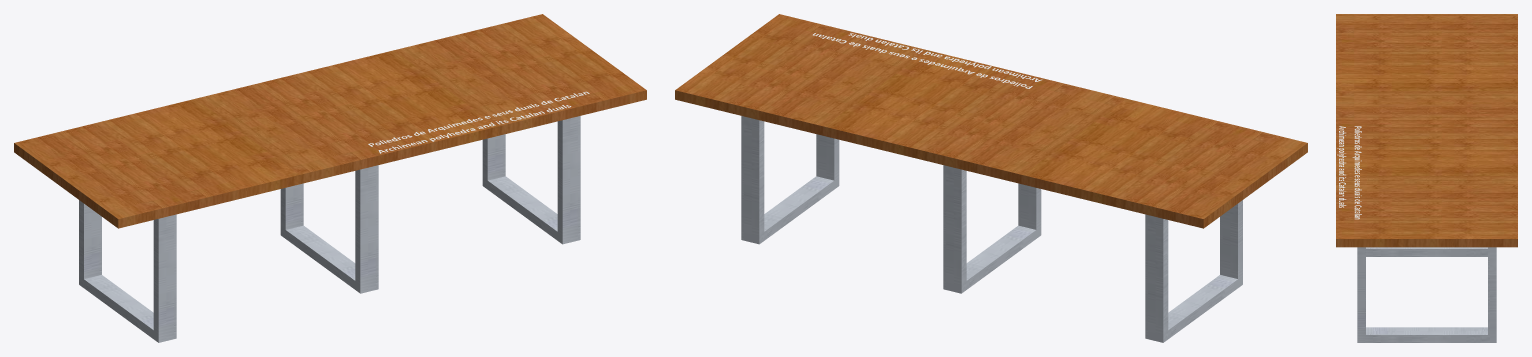
The model's file is mesa_Arquimedes3.glb.
3 views of the same model, side by side, from view 1: azimuth 30°, elevation 25°; view 2: azimuth 150°, elevation 25°; view 3: azimuth 270°, elevation 25° (orthographic). The views are drawn at different scales.
Parts seen in each view (by area): view 1: object 1, Composant#1 (×3), Poliedros de Arq; view 2: object 1, Composant#1 (×3), Poliedros de Arq; view 3: object 1, Composant#1 (×2), Poliedros de Arq.
Part boxes in pixels (x1,y1,x2,y2): object 1: [14, 14, 646, 228]; Composant#1 (×3): [79, 116, 580, 342]; Poliedros de Arq: [368, 91, 589, 153]; object 1: [675, 14, 1307, 228]; Composant#1 (×3): [741, 116, 1242, 342]; Poliedros de Arq: [813, 33, 1042, 88]; object 1: [1336, 14, 1517, 247]; Composant#1 (×2): [1357, 247, 1496, 342]; Poliedros de Arq: [1337, 126, 1361, 219].
Size of the model in its own units: 2.93 by 0.7711 by 1.
Materials: 3 (2 with a texture image).
